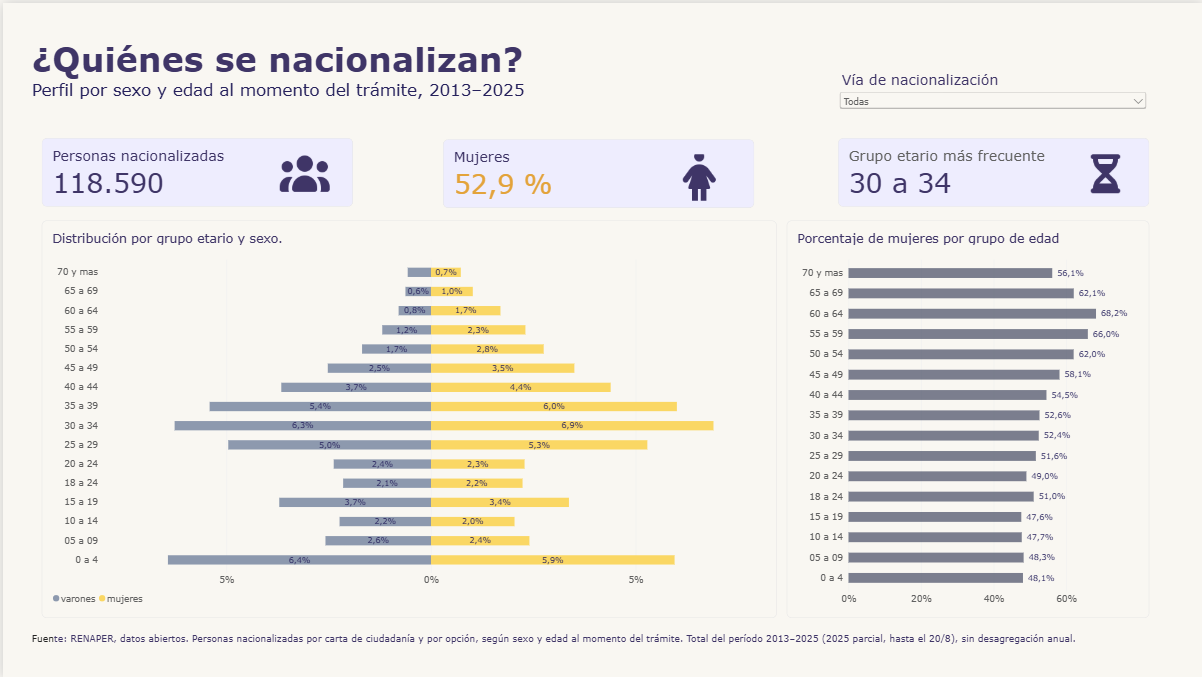

What the dashboard file says about the page in this screenshot:
{"tool":"powerbi","page":{"name":"Perfil demografico","canvas":[1920,1080],"ordinal":1},"visuals":[{"type":"textbox","box":[45,55,1052.5,107.5],"z":1000},{"type":"slicer","fields":{"Values":["perfil.Tipo de nacionalización"]},"box":[1334,108,500,76],"z":2000},{"type":"cardVisual","fields":{"Data":["perfil.Grupo principal"]},"box":[1336,216,498,110],"z":3000},{"type":"cardVisual","fields":{"Data":["base_nacionalizaciones.Total perfil"]},"box":[62,216,498,110],"z":4000},{"type":"cardVisual","fields":{"Data":["perfil.% Sexo"]},"box":[704,218,498,110],"z":5000},{"type":"image","box":[1714,242,100,62],"z":6000},{"type":"image","box":[434,242,98,64],"z":7000},{"type":"textbox","box":[46,1008,1824,46],"z":8000},{"type":"barChart","title":"Distribución por grupo etario y sexo.","fields":{"Category":["perfil.grupo_etario"],"Y":["perfil.Varones","perfil.Mujeres"]},"box":[62,348,1176,636],"z":10000},{"type":"clusteredBarChart","title":"Porcentaje de mujeres por grupo de edad","fields":{"Category":["perfil.grupo_etario"],"Y":["perfil.% Mujeres por grupo"]},"box":[1254,348,580,636],"z":11000},{"type":"image","box":[1052,242,124,74],"z":11001}]}

Visuals, with their boxes in screenshot pixels (x1, y1, x2, y2), scaled from the page's 1920x1080 canvas onto the 1202x677 screenshot:
textbox: l=28, t=34, r=687, b=102
slicer - perfil.Tipo de nacionalización: l=835, t=68, r=1148, b=115
cardVisual - perfil.Grupo principal: l=836, t=135, r=1148, b=204
cardVisual - base_nacionalizaciones.Total perfil: l=39, t=135, r=351, b=204
cardVisual - perfil.% Sexo: l=441, t=137, r=753, b=206
image: l=1073, t=152, r=1136, b=191
image: l=272, t=152, r=333, b=192
textbox: l=29, t=632, r=1171, b=661
"Distribución por grupo etario y sexo." barChart: l=39, t=218, r=775, b=617
"Porcentaje de mujeres por grupo de edad" clusteredBarChart: l=785, t=218, r=1148, b=617
image: l=659, t=152, r=736, b=198
